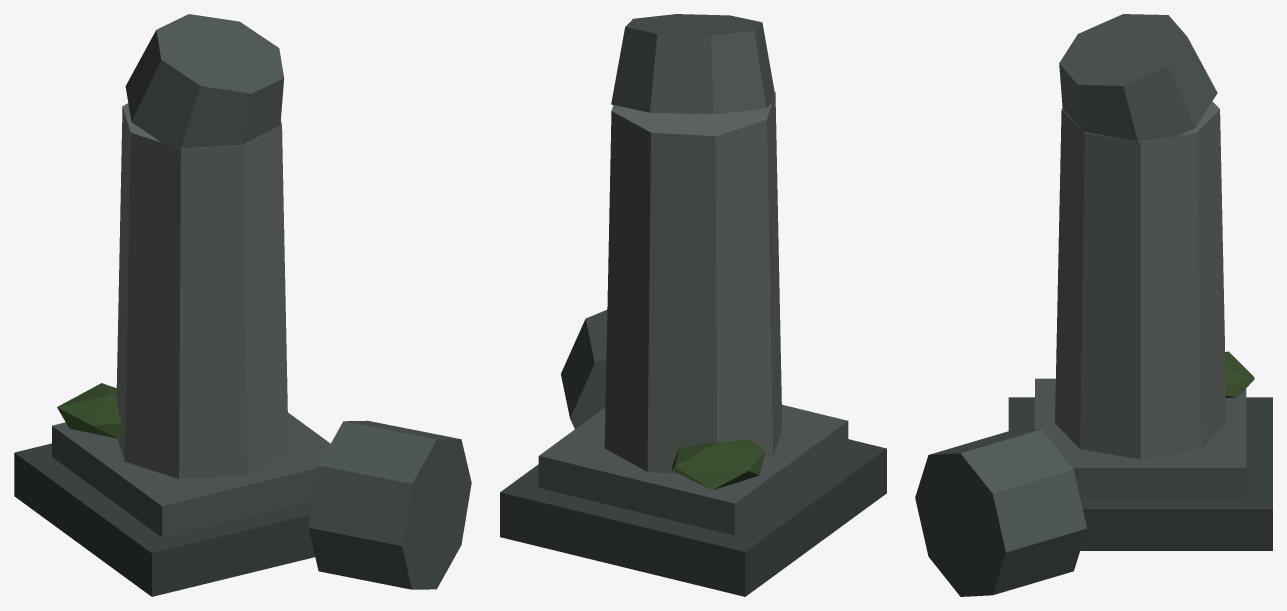
File: rock_pillar.glb
3 views of the same model, side by side, from view 1: azimuth 30°, elevation 25°; view 2: azimuth 150°, elevation 25°; view 3: azimuth 270°, elevation 25° (orthographic). The views are drawn at different scales.
Parts seen in each view (by area): view 1: rock_pillar; view 2: rock_pillar; view 3: rock_pillar.
Part boxes in pixels (bbox=[...]): rock_pillar: bbox=[14, 14, 471, 596]; rock_pillar: bbox=[500, 14, 886, 596]; rock_pillar: bbox=[915, 14, 1272, 596].
Size of the model in its own units: 1.07 by 1.67 by 1.08.
